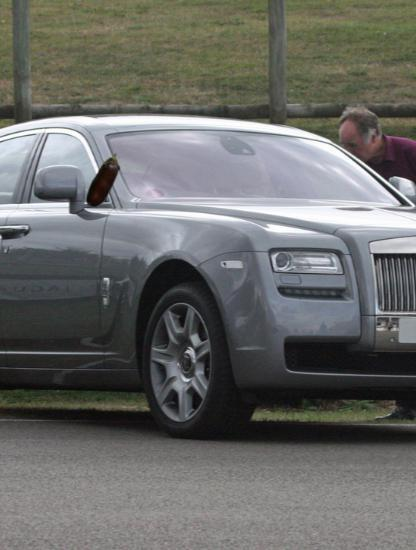Eggplant: (74, 150, 135, 211)
